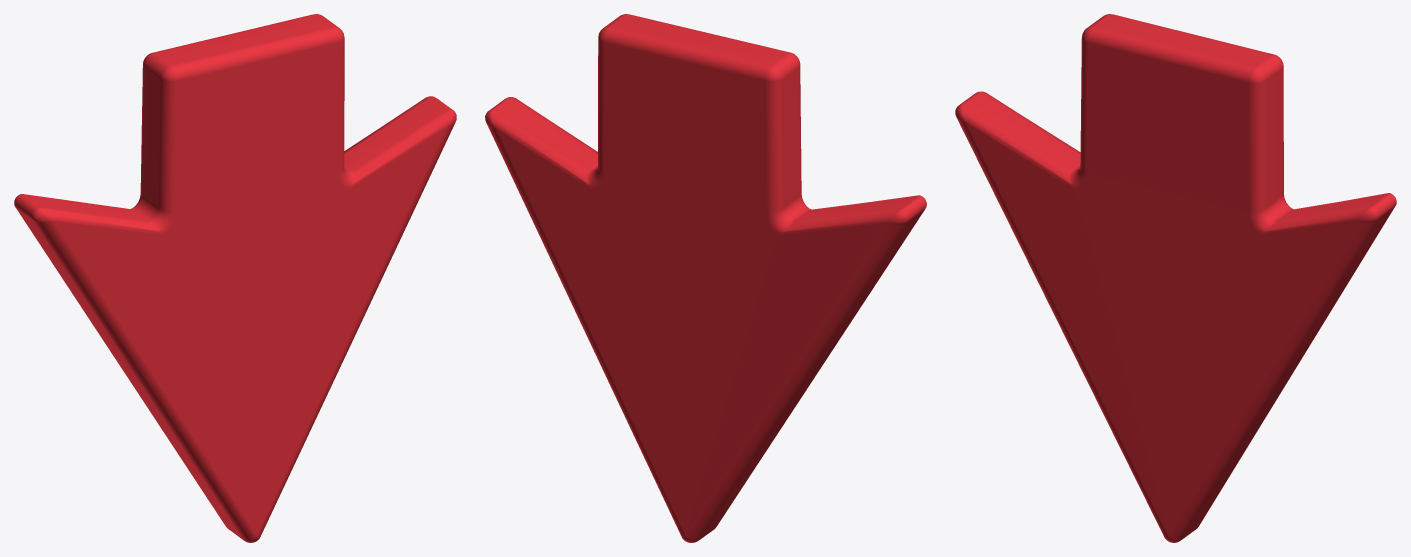
Rendered from simple_red_arrow.glb.
3 renders of one model, left to right at view 1: azimuth 30°, elevation 25°; view 2: azimuth 150°, elevation 25°; view 3: azimuth 330°, elevation 25°, orthographic.
Visible parts, largest first — view 1: node_id30; view 2: node_id30; view 3: node_id30.
Part boxes in pixels (x1,y1,x2,y2): node_id30: (14, 14, 456, 542); node_id30: (485, 14, 926, 542); node_id30: (955, 14, 1396, 542).
Size of the model in its own units: 1.89 by 2.12 by 0.2288.
